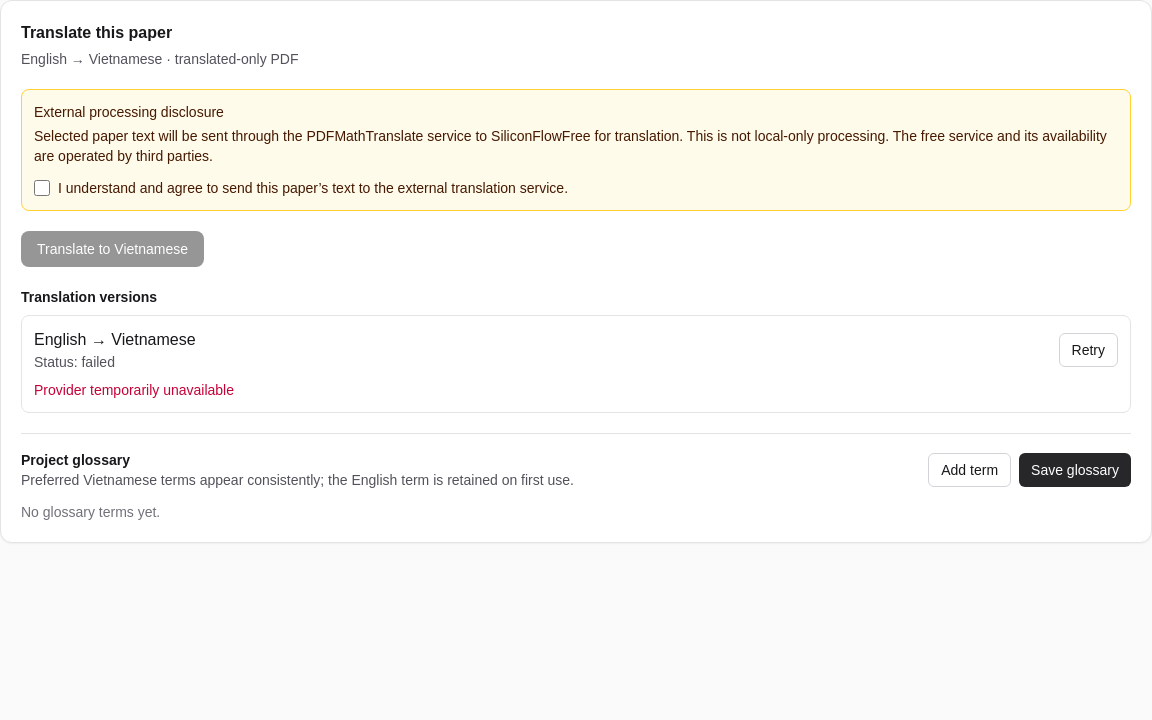
Test: TranslationPanel › offers retry for failed jobs and reports API errors accessibly
The image size is (1152, 720).
Expected: the text "Provider temporarily unavailable" is shown, [34,382,234,398]
Click the button "Retry": (1088, 350) [1058,333,1118,367]
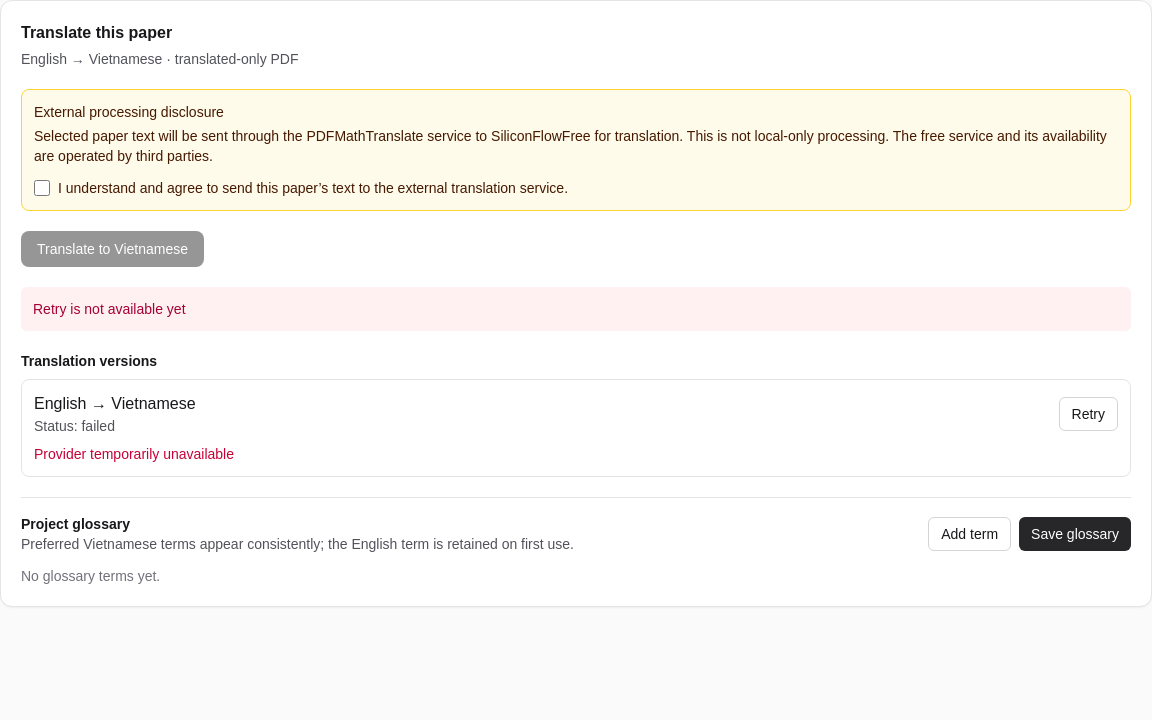
Expected: the message reads "Retry is not available yet", [33,301,186,317]
